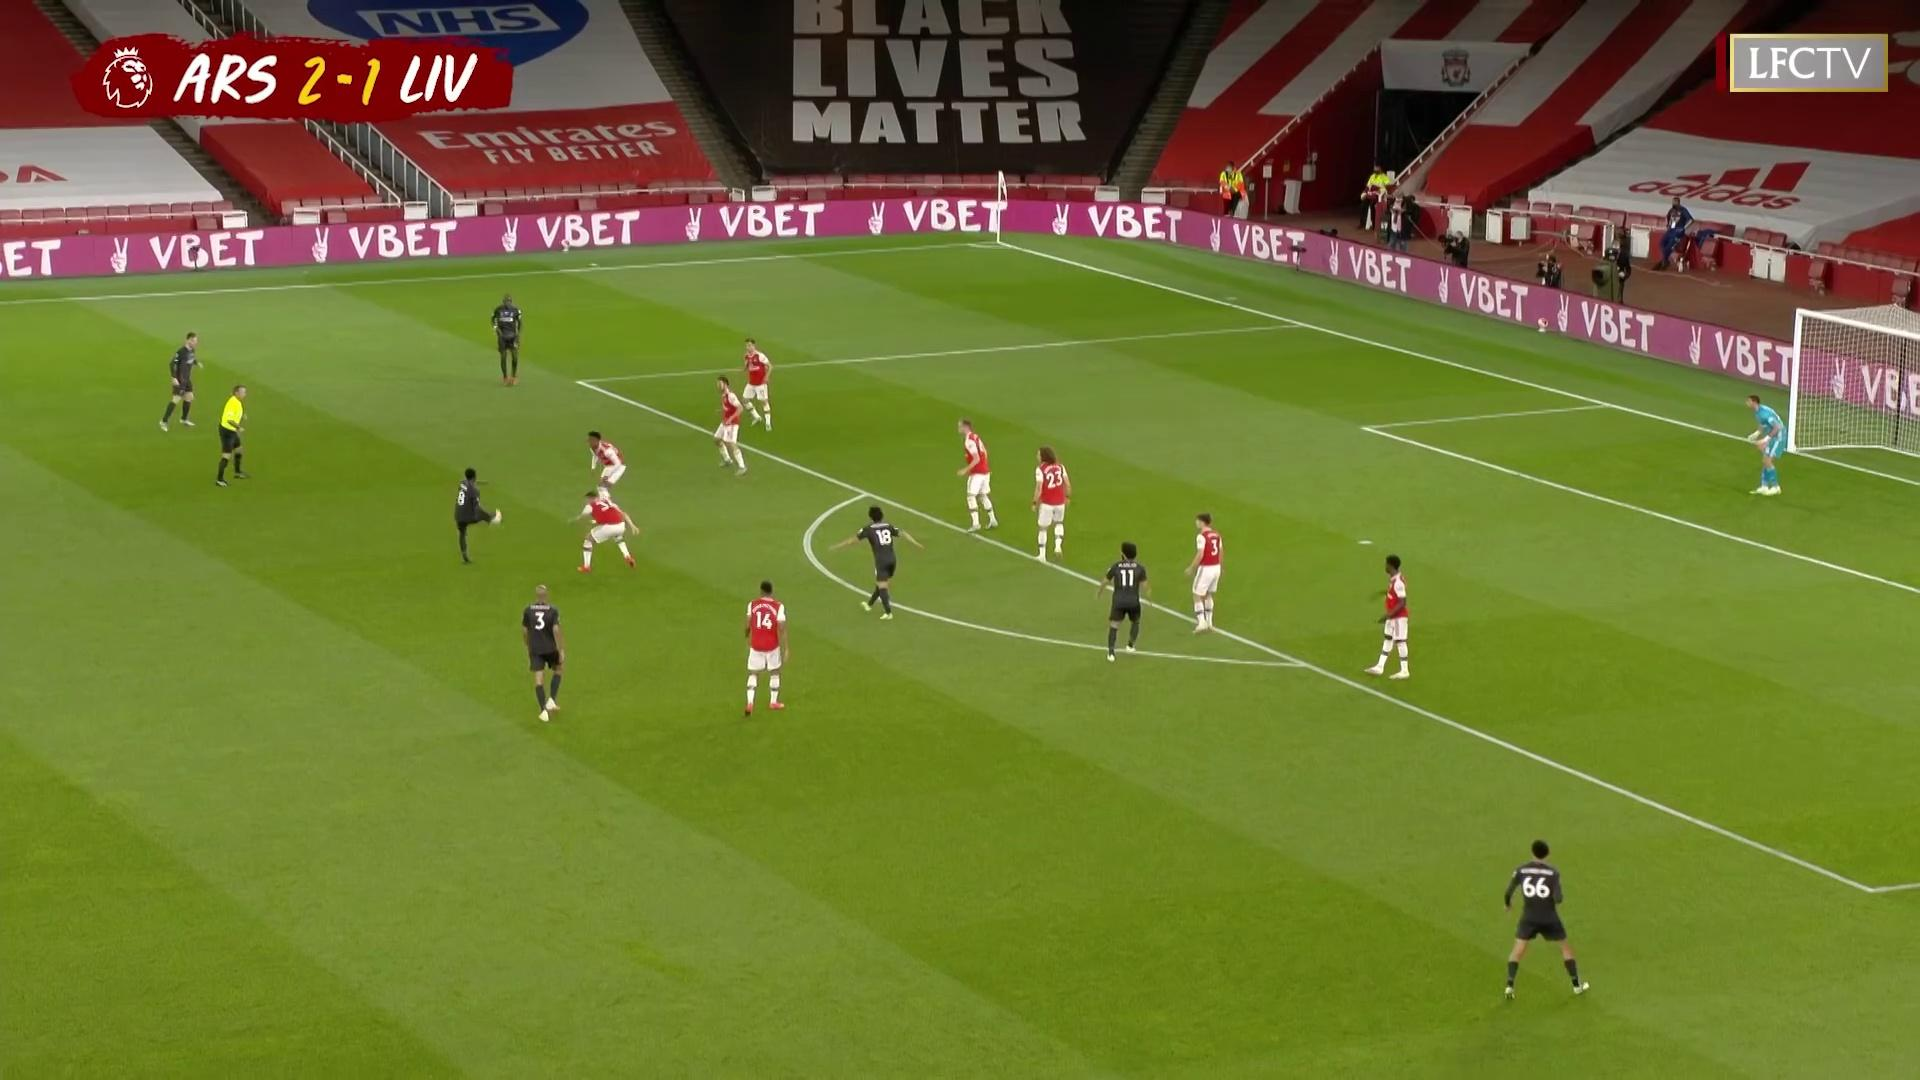ball: (489, 508, 504, 526)
